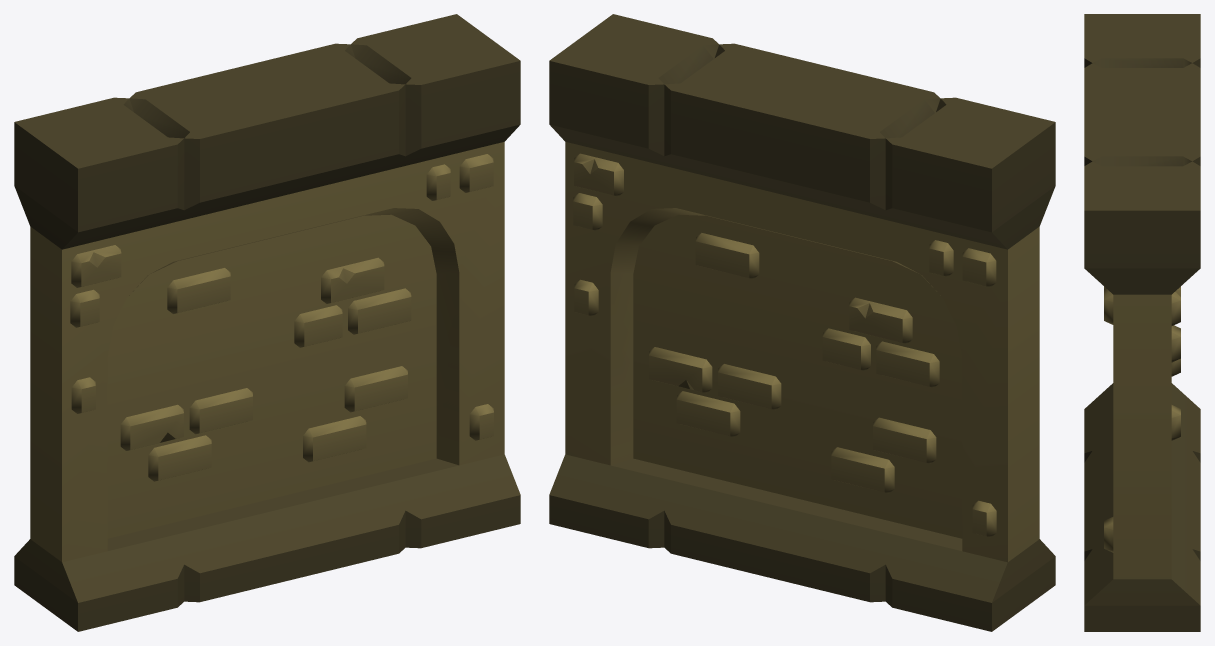
The model's file is wall_arched.glb.
The picture shows the model from 3 angles, left to right: view 1: azimuth 30°, elevation 25°; view 2: azimuth 150°, elevation 25°; view 3: azimuth 270°, elevation 25°; orthographic projection. The views are drawn at different scales.
Parts seen in each view (by area): view 1: wall_arched; view 2: wall_arched; view 3: wall_arched.
Boxes of the visible parts, x1,y1,x2,y2 form: wall_arched: (14, 14, 520, 631); wall_arched: (549, 14, 1055, 631); wall_arched: (1084, 14, 1200, 631).
Size of the model in its own units: 4 by 4 by 1.
Materials: 1 (1 with a texture image).
